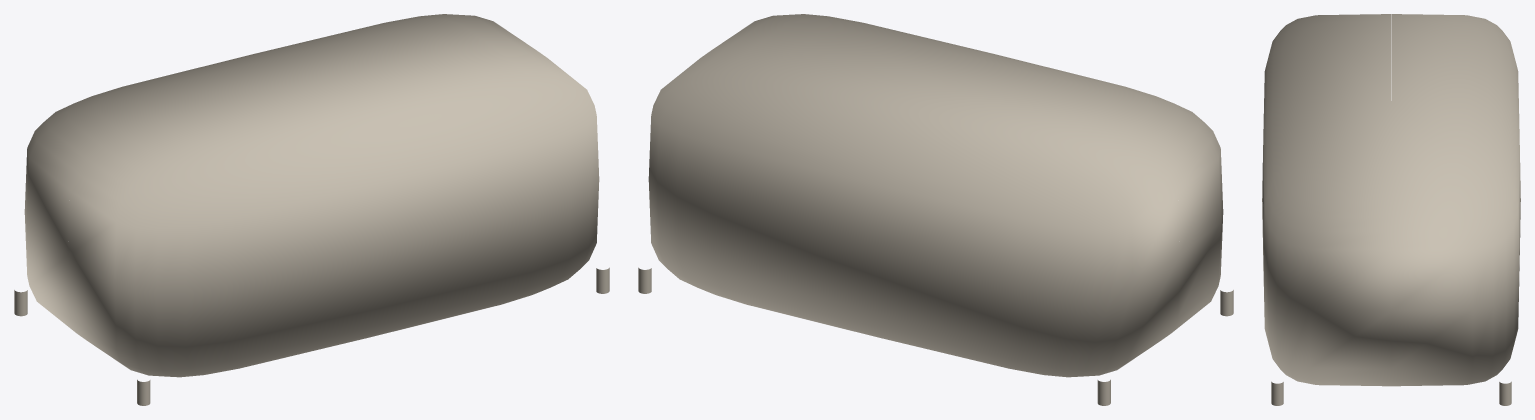
The model's file is muuto-outline-2s-ou2sra10101-g2-proxy.glb.
3 views of the same model, side by side, from view 1: azimuth 30°, elevation 25°; view 2: azimuth 150°, elevation 25°; view 3: azimuth 270°, elevation 25° (orthographic). The views are drawn at different scales.
Visible parts, largest first — view 1: proxy_body; view 2: proxy_body; view 3: proxy_body, leg (×2).
Boxes of the visible parts, left/top/right/bottom form: proxy_body: left=24, top=14, right=599, bottom=377; proxy_body: left=648, top=14, right=1223, bottom=377; proxy_body: left=1262, top=14, right=1520, bottom=386; leg (×2): left=1271, top=381, right=1511, bottom=405.
Bounding box in the file's own units: 1.7 × 0.71 × 0.84.
